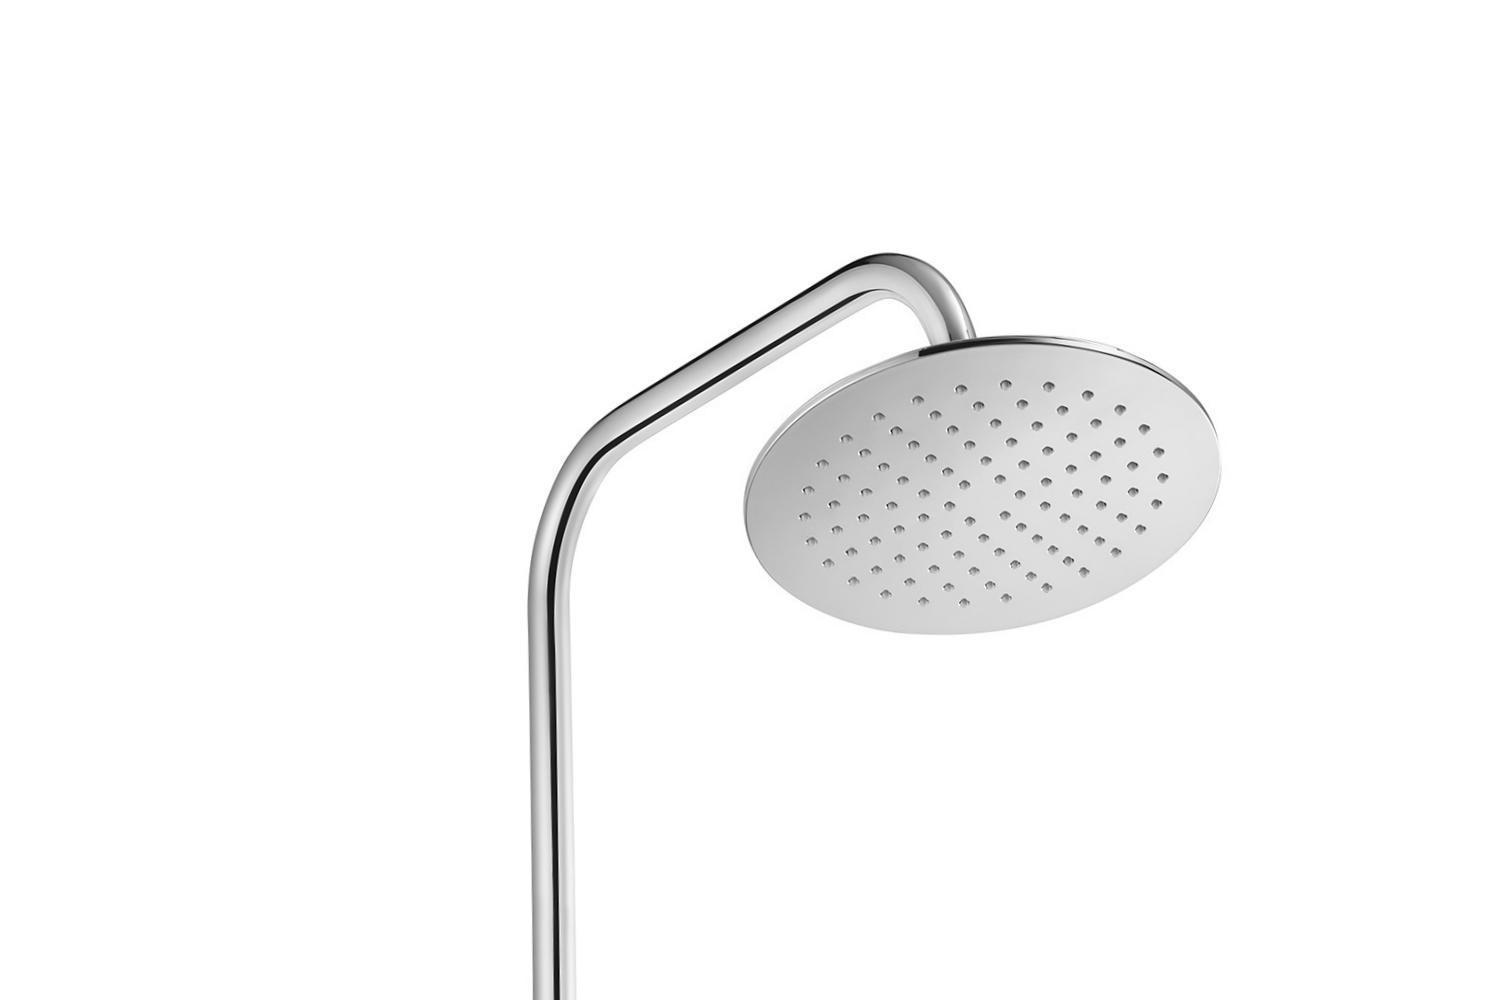Ducha: (437, 76, 1317, 999)
